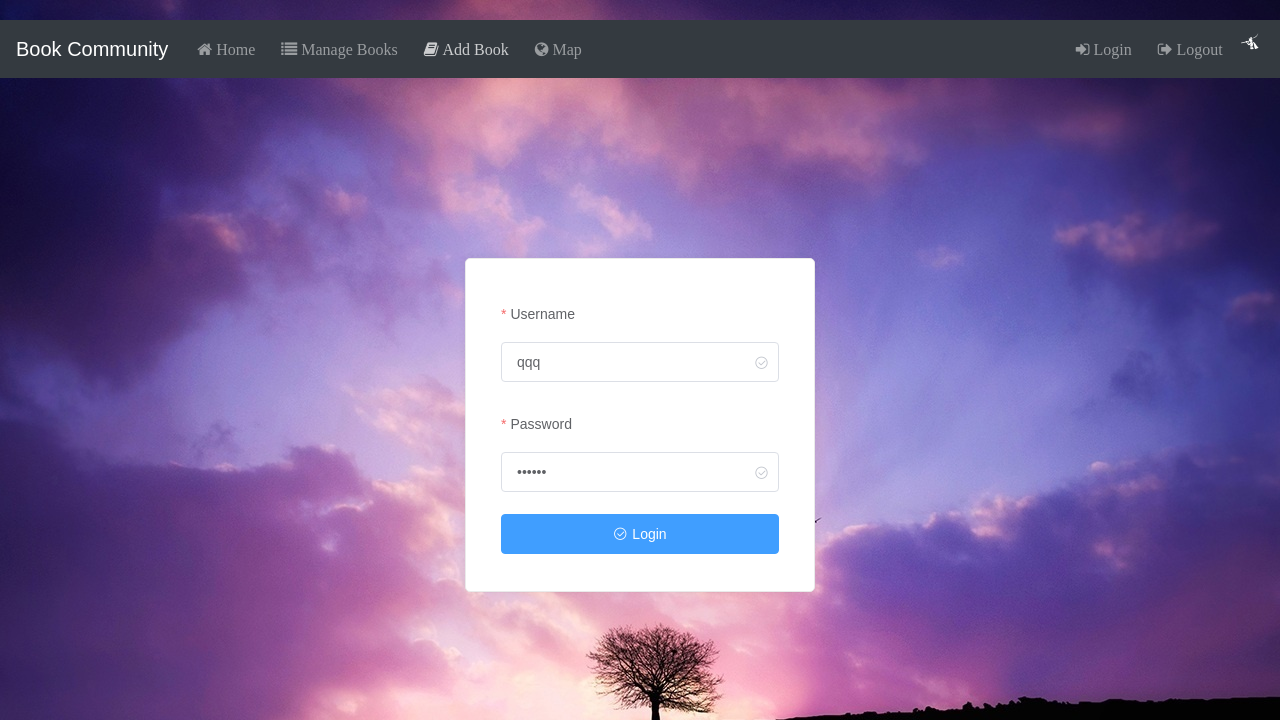
Scenario: Login and Logout › logout
Click the text "Logout". click: (1191, 49)
box: [1153,36,1228,62]
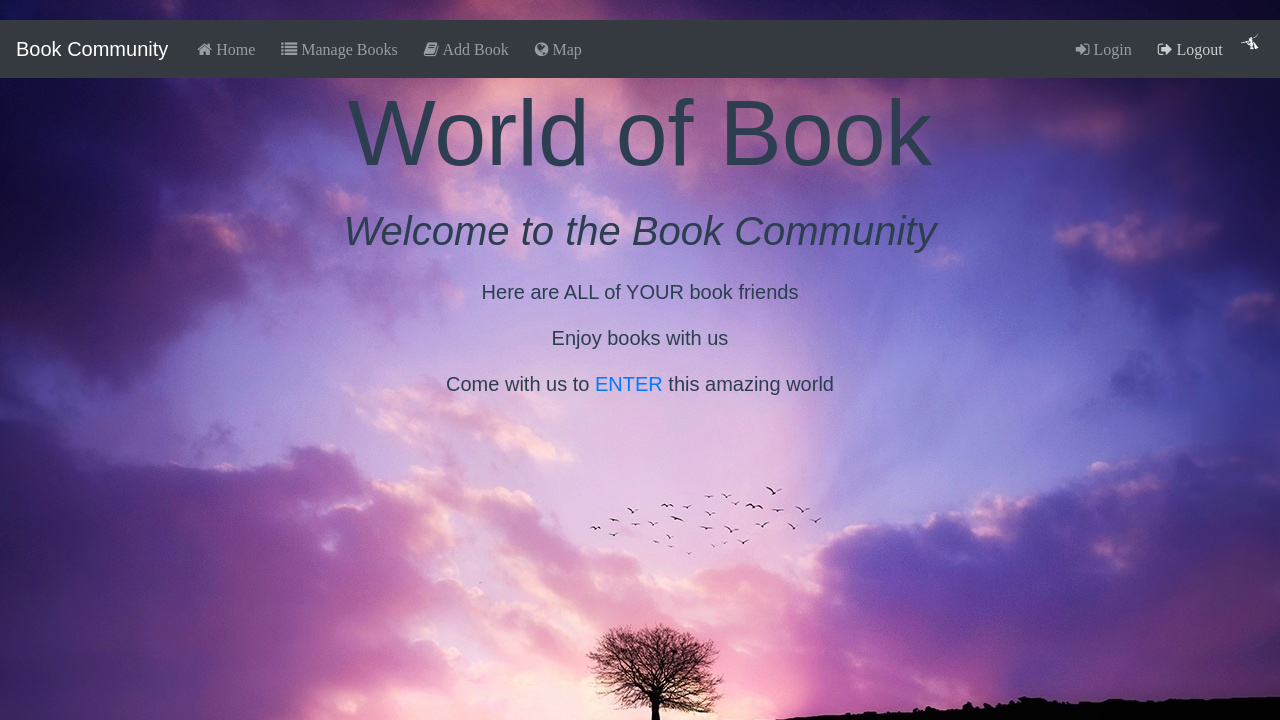
Open "http://localhost:8081/#/books"
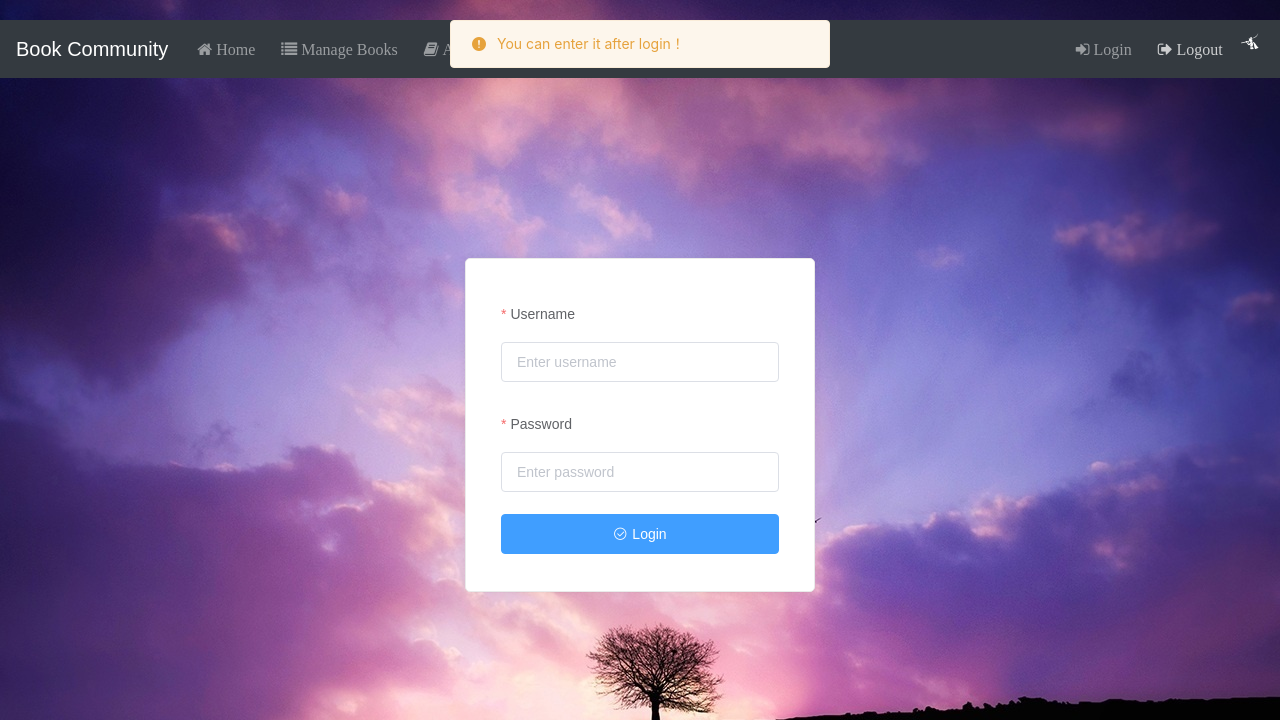
Now the text "You can enter it after login！" is shown, box [497,37,685,51]
